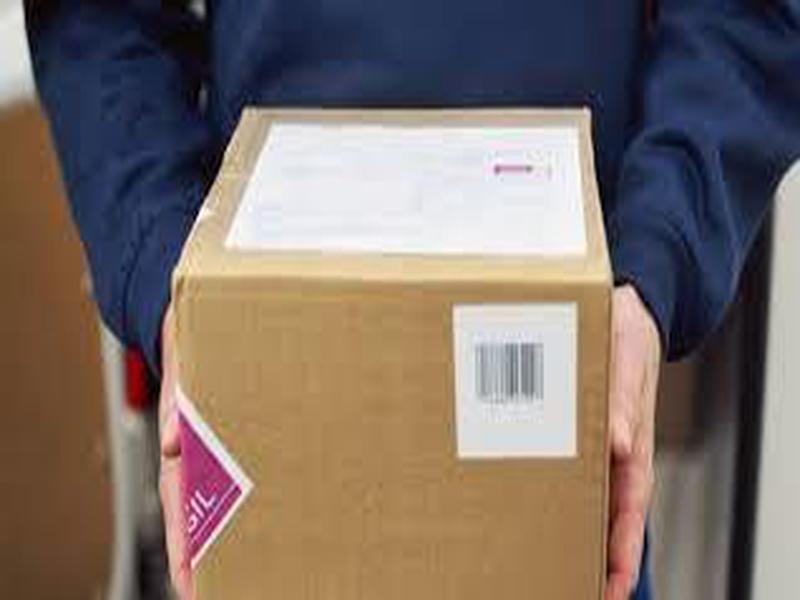package: (122, 81, 662, 580)
